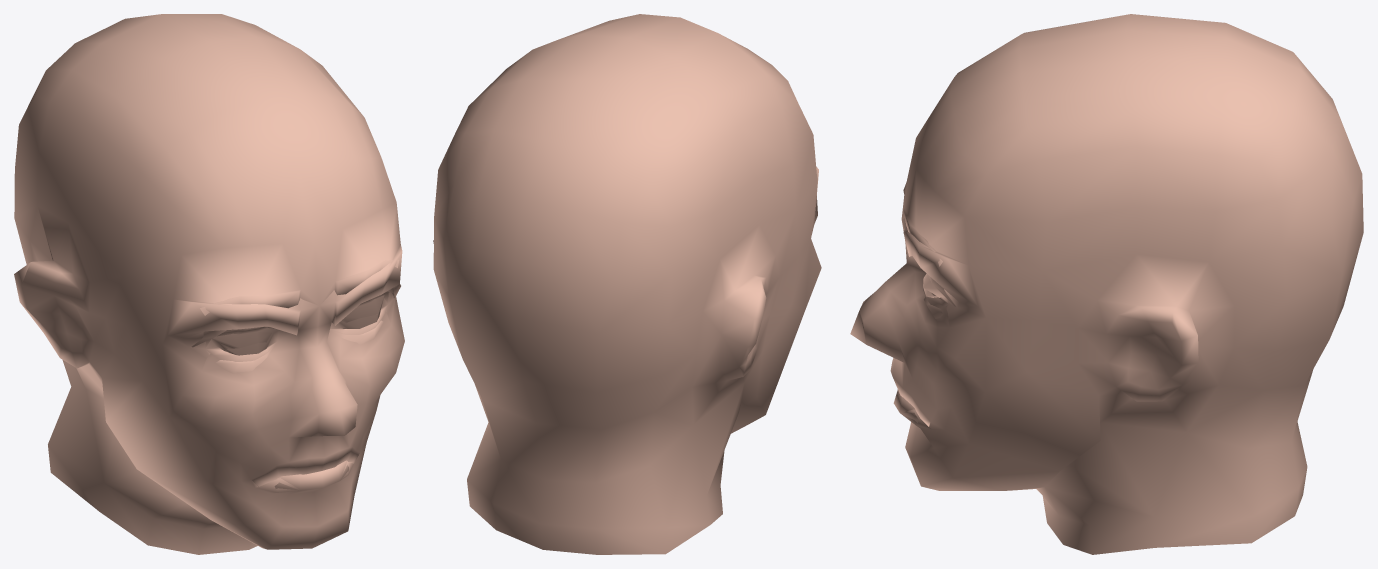
The model's file is pala.gltf.
The picture shows the model from 3 angles, left to right: view 1: azimuth 30°, elevation 25°; view 2: azimuth 150°, elevation 25°; view 3: azimuth 270°, elevation 25°; orthographic projection. The views are drawn at different scales.
Parts seen in each view (by area): view 1: Sphere.001, Sphere.003; view 2: Sphere.001, Sphere.003; view 3: Sphere.003, Sphere.001.
Part boxes in pixels (<box>): Sphere.001: <box>14,14,399,554</box>; Sphere.003: <box>32,14,404,549</box>; Sphere.001: <box>433,17,820,554</box>; Sphere.003: <box>433,14,821,549</box>; Sphere.003: <box>850,30,1363,554</box>; Sphere.001: <box>860,14,1352,486</box>.
Bounding box in the file's own units: 1.25 × 1.77 × 1.67.
